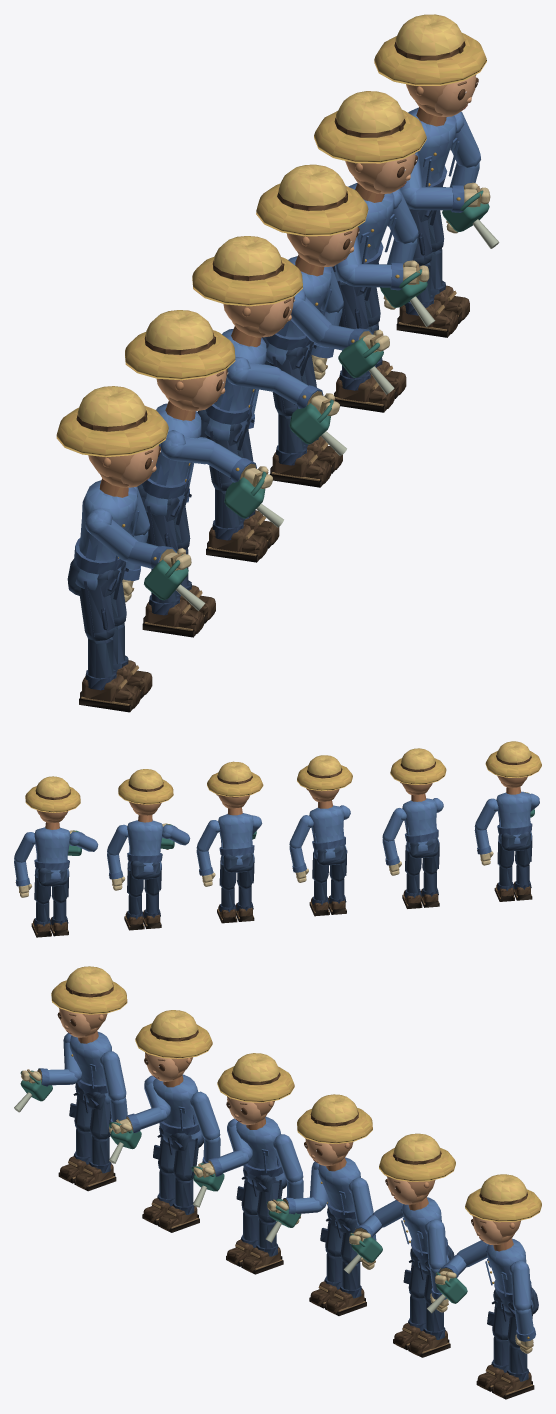
File: ba-water-front-after.glb
3 views of the same model, one above another, from view 1: azimuth 30°, elevation 25°; view 2: azimuth 150°, elevation 25°; view 3: azimuth 270°, elevation 25° (orthographic). The views are drawn at different scales.
Visible parts, largest first — view 1: strawHat (×6), denimJacketTorso (×6), rightShin (×6), head (×6), rightUpperArm (×4), rightLowerArm (×4), wateringCanBody (×4), rightThigh (×3), leftShin (×2), leftUpperArm (×2), trouserHips; view 2: denimJacketTorso (×6), strawHat (×6), leftShin (×6), rightShin (×6), trouserHips (×6), leftUpperArm (×6), leftLowerArm (×6), leftThigh (×6), rightThigh (×6), head (×6), rightUpperArm (×2); view 3: strawHat (×6), denimJacketTorso (×6), leftShin (×6), rightShin (×6), head (×6), leftUpperArm (×6), rightLowerArm (×4), rightThigh (×4), leftThigh (×3), rightUpperArm (×2), leftLowerArm.
Part boxes in pixels (bbox=[...]): strawHat (×6): bbox=[56, 14, 486, 457]; denimJacketTorso (×6): bbox=[74, 107, 459, 590]; rightShin (×6): bbox=[79, 262, 458, 712]; head (×6): bbox=[88, 75, 478, 487]; rightUpperArm (×4): bbox=[85, 289, 331, 561]; rightLowerArm (×4): bbox=[206, 184, 464, 482]; wateringCanBody (×4): bbox=[144, 336, 383, 600]; rightThigh (×3): bbox=[79, 281, 368, 640]; leftShin (×2): bbox=[112, 248, 469, 698]; leftUpperArm (×2): bbox=[389, 111, 480, 243]; trouserHips: bbox=[67, 558, 128, 599]; denimJacketTorso (×6): bbox=[34, 787, 532, 879]; strawHat (×6): bbox=[25, 741, 541, 812]; leftShin (×6): bbox=[31, 866, 514, 937]; rightShin (×6): bbox=[50, 865, 532, 936]; trouserHips (×6): bbox=[37, 831, 531, 886]; leftUpperArm (×6): bbox=[14, 798, 498, 862]; leftLowerArm (×6): bbox=[14, 828, 491, 886]; leftThigh (×6): bbox=[34, 838, 514, 904]; rightThigh (×6): bbox=[51, 835, 532, 902]; head (×6): bbox=[36, 775, 527, 822]; rightUpperArm (×2): bbox=[69, 824, 190, 851]; strawHat (×6): bbox=[51, 966, 541, 1222]; denimJacketTorso (×6): bbox=[69, 1031, 533, 1312]; leftShin (×6): bbox=[74, 1136, 534, 1399]; rightShin (×6): bbox=[58, 1128, 509, 1391]; head (×6): bbox=[57, 1008, 520, 1244]; leftUpperArm (×6): bbox=[99, 1051, 531, 1310]; rightLowerArm (×4): bbox=[37, 1068, 322, 1214]; rightThigh (×4): bbox=[153, 1138, 426, 1298]; leftThigh (×3): bbox=[90, 1101, 282, 1222]; rightUpperArm (×2): bbox=[372, 1200, 488, 1267]; leftLowerArm: bbox=[514, 1308, 535, 1341].
Size of what is drawn, in the model's own units: 6.06 by 2.4 by 5.52.
